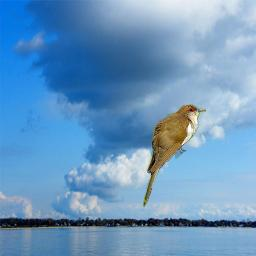Cuckoo: (143, 103, 206, 208)
